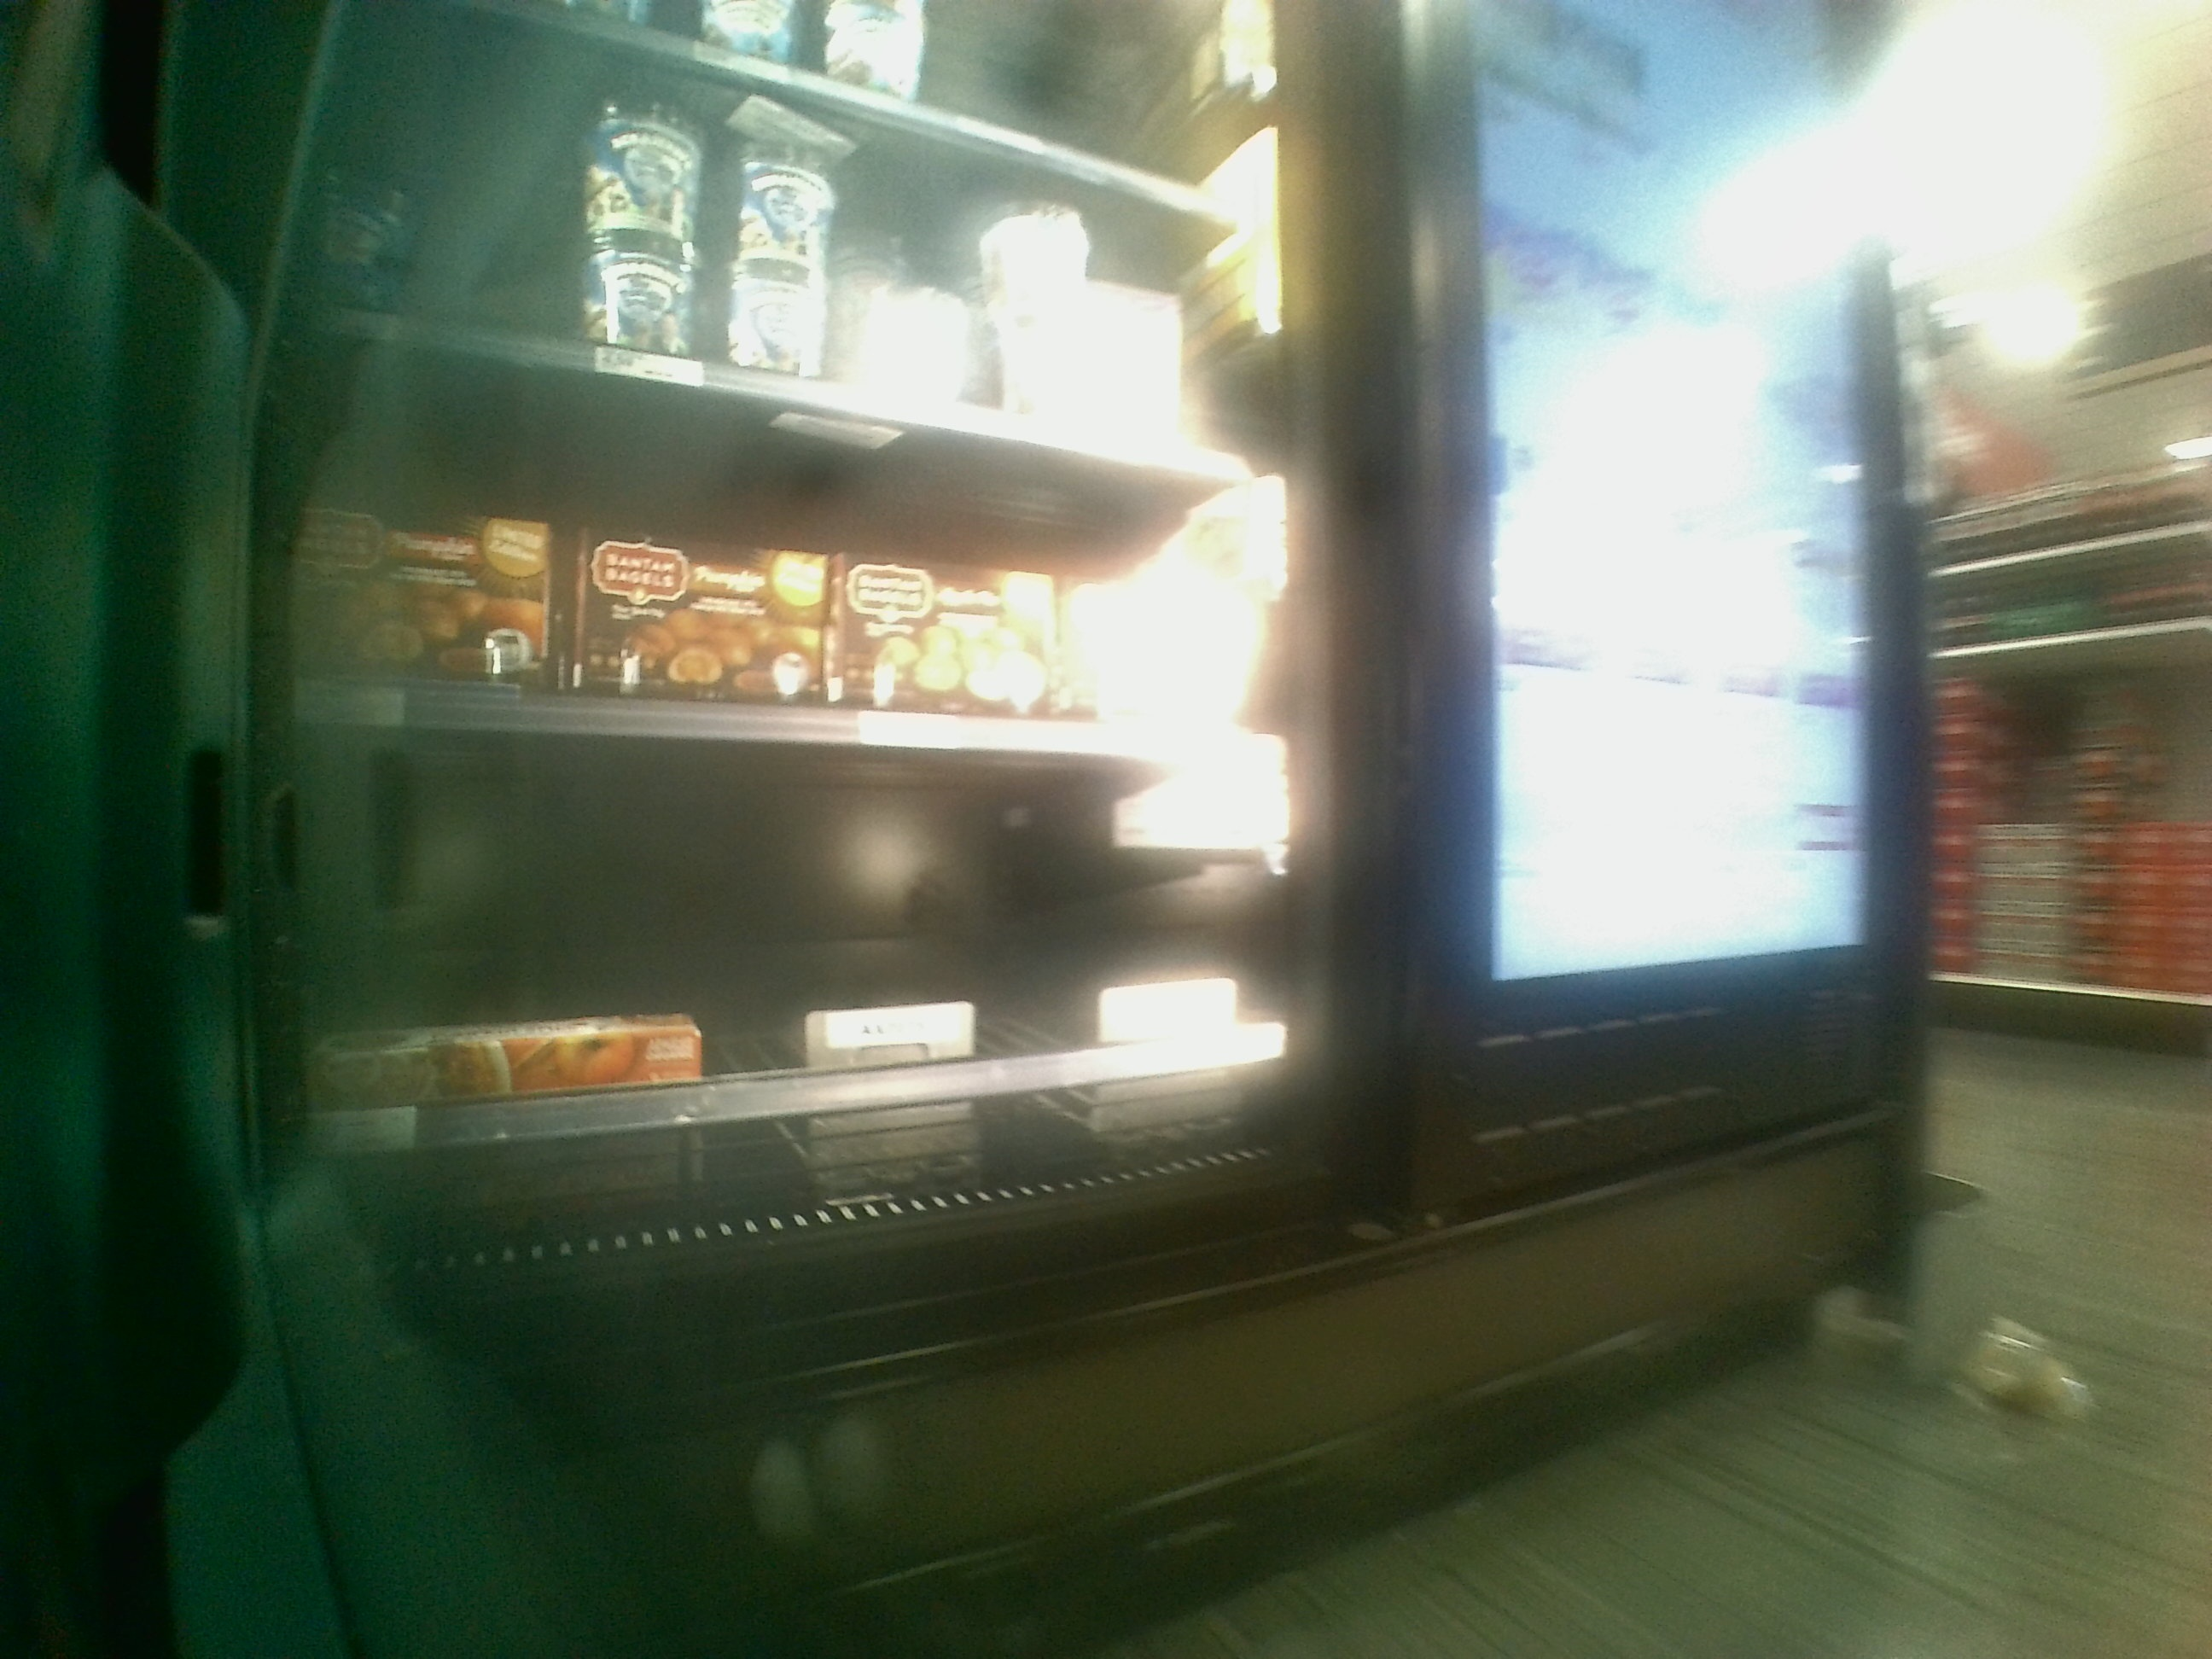shelf: (289, 695, 1332, 1251)
